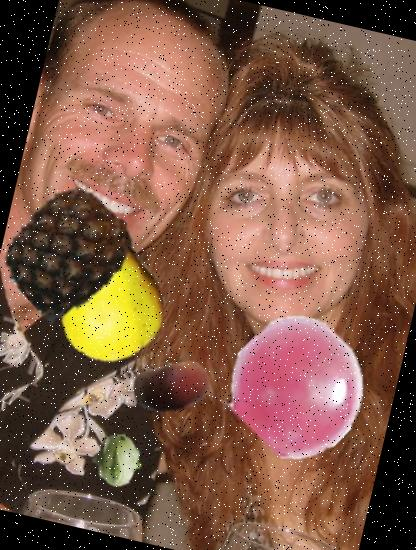Kohlrabi: (84, 427, 150, 493)
Nectarine: (124, 340, 218, 434)
Pineapple: (0, 176, 142, 325)
Quince: (36, 227, 184, 375)
Redcurrant: (218, 306, 379, 468)
